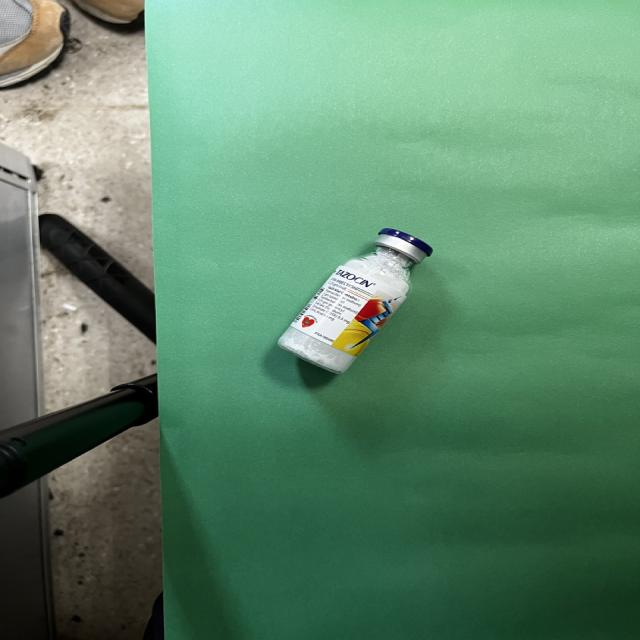Vials: (278, 228, 432, 372)
